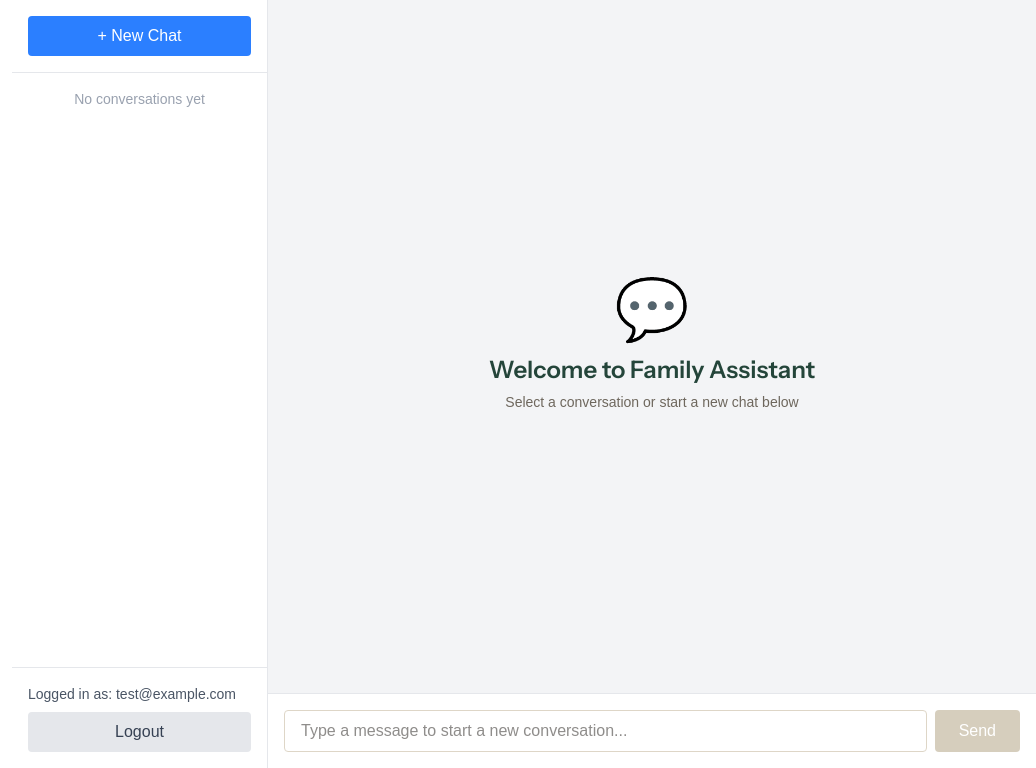
Test: ConversationsChat › Trust metadata rendering › renders trust metadata when assistant message has annotations
Type "What does the web say" into the field with placeholder "Type a message to start a new conversation..." at (605, 731), box [284, 710, 927, 752]
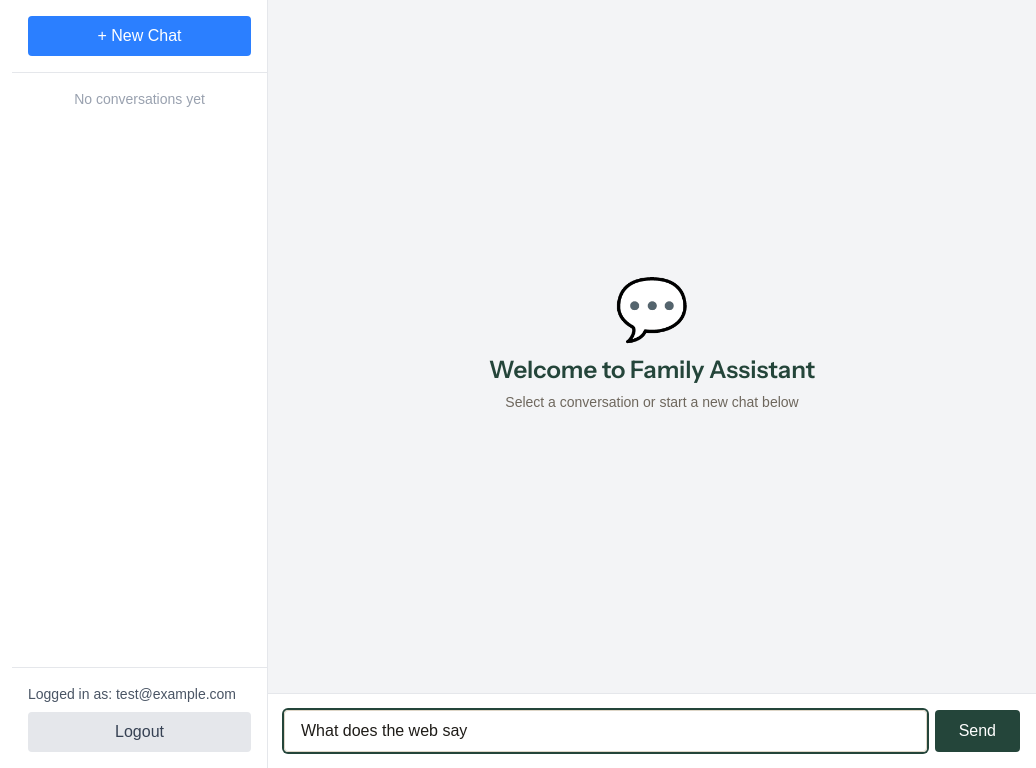
Click the button "Send" at (977, 731), box [935, 710, 1020, 752]
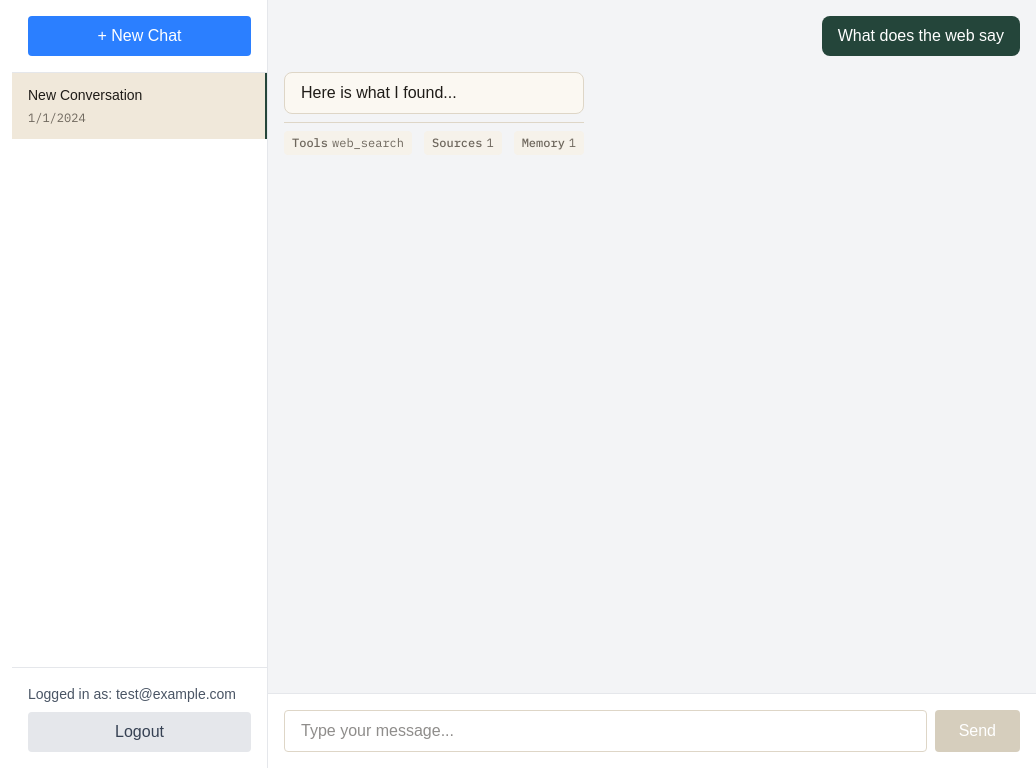
Expected: the text "web_search" is shown, [332, 135, 404, 151]
Expected: the text "Here is what I found..." is shown, [301, 84, 457, 101]
Expected: the text "Tools" is shown, [292, 135, 328, 151]
